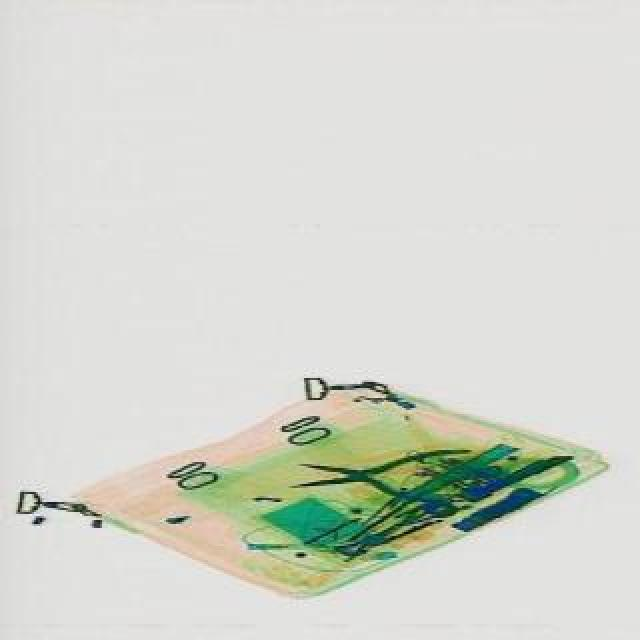wrench: (284, 440, 468, 504)
